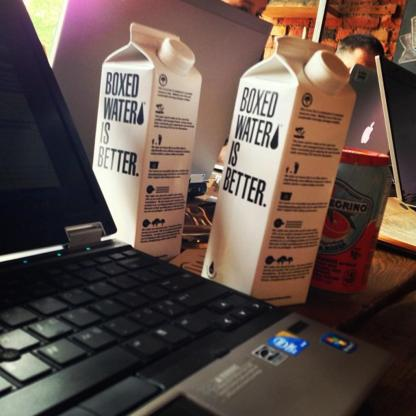board: (0, 40, 325, 416), (49, 0, 274, 198), (204, 37, 356, 306), (92, 23, 202, 259), (305, 147, 393, 294), (374, 56, 416, 210), (348, 63, 389, 156)
